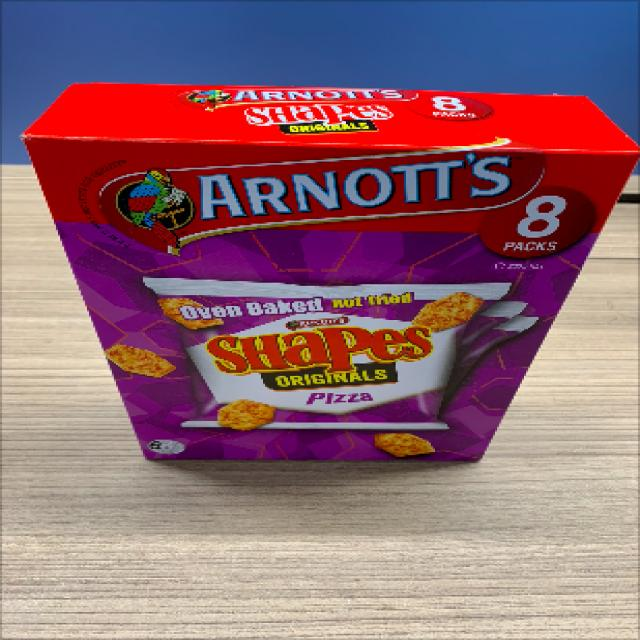object_name: (68, 94, 587, 471)
